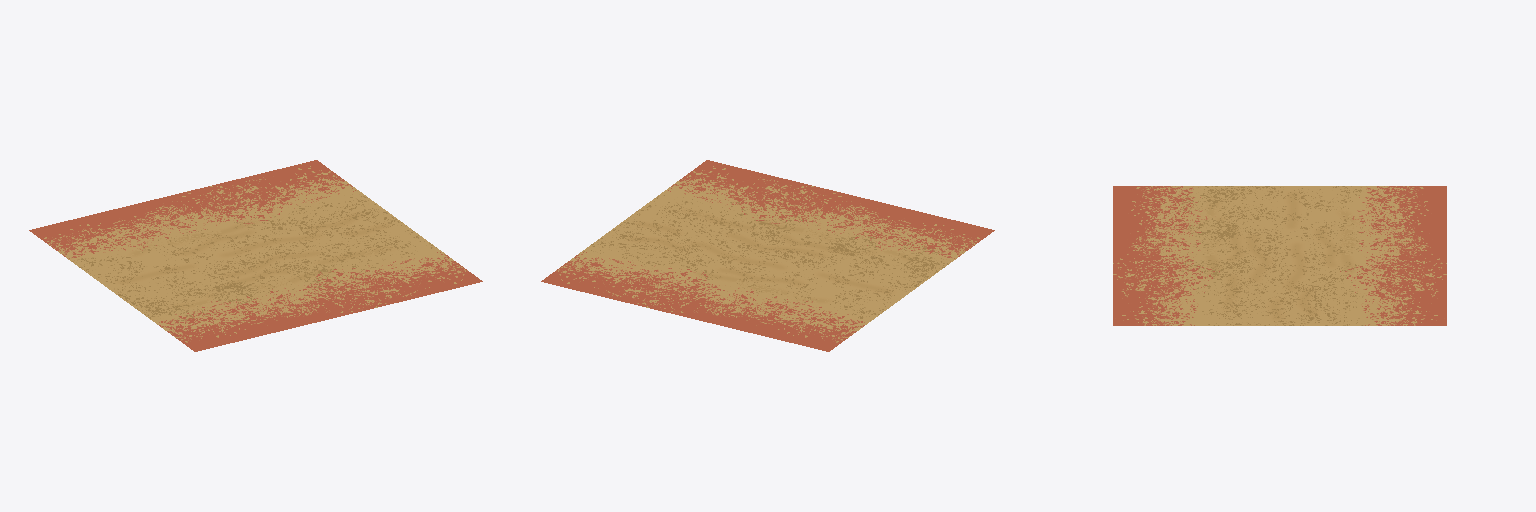
3 views of the same model, side by side, from view 1: azimuth 30°, elevation 25°; view 2: azimuth 150°, elevation 25°; view 3: azimuth 270°, elevation 25° (orthographic).
Parts seen in each view (by area): view 1: Plane; view 2: Plane; view 3: Plane.
Part boxes in pixels (x1,y1,x2,y2): Plane: (29, 160, 482, 351); Plane: (541, 160, 994, 351); Plane: (1113, 186, 1446, 325).
Size of the model in its own units: 10 by 0 by 10.
Materials: 1 (1 with a texture image).